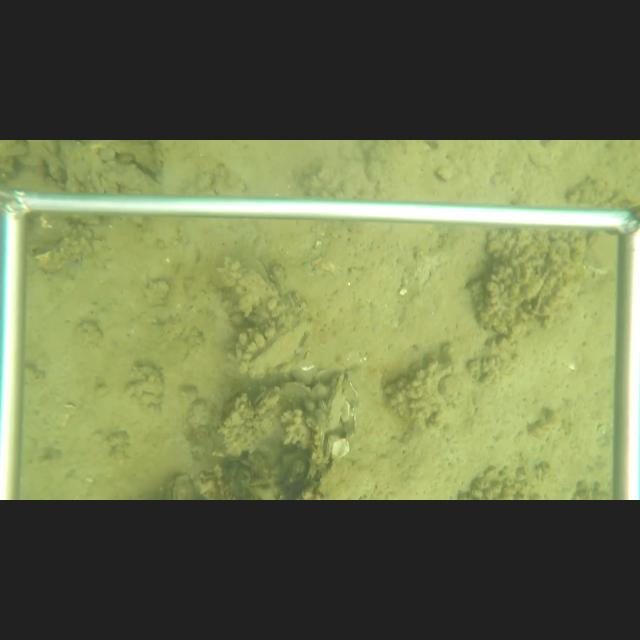Oyster-Closed: (323, 371, 347, 434)
Oyster-Open: (236, 318, 315, 377), (251, 389, 280, 419)
